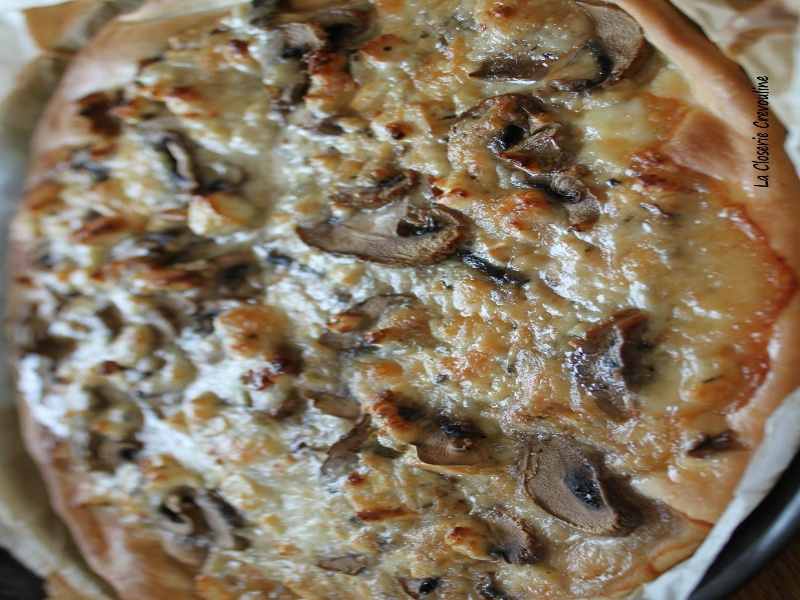champignon: (516, 428, 633, 546), (293, 202, 470, 266)
